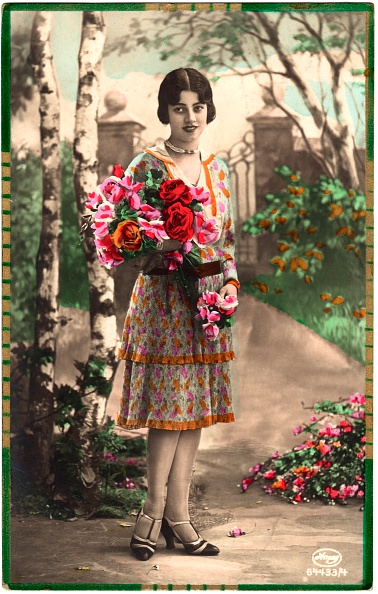em pe: (101, 64, 245, 565)
